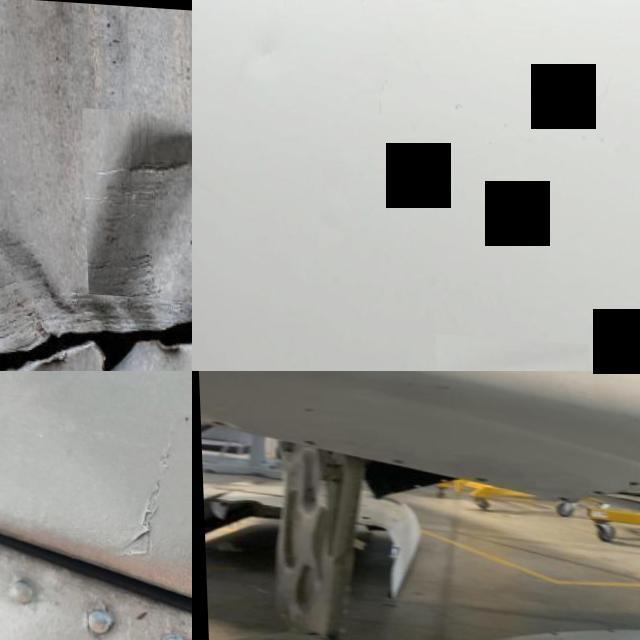Crack: (0, 291, 192, 371)
Dent: (85, 109, 192, 293), (433, 338, 585, 371), (245, 34, 279, 77)
Missing_Fastener: (380, 454, 404, 466), (297, 433, 315, 448), (548, 490, 568, 500), (625, 472, 639, 483), (586, 484, 600, 492), (470, 472, 482, 481)
